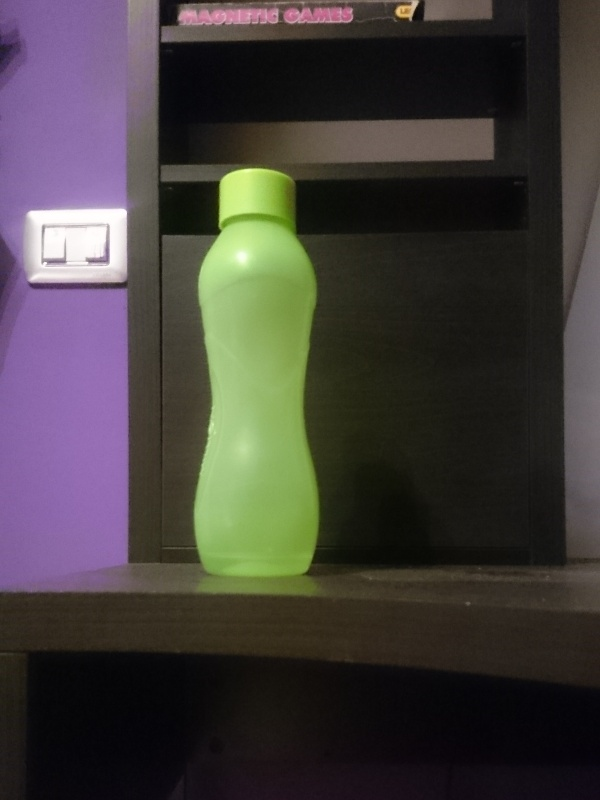my bottle: (190, 167, 318, 579)
